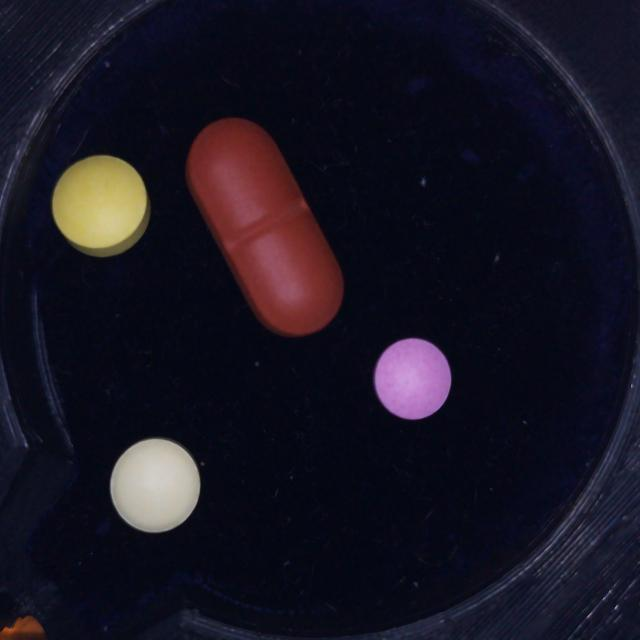Pill: (186, 118, 344, 337), (51, 155, 150, 257), (110, 438, 200, 533), (374, 339, 451, 419)
